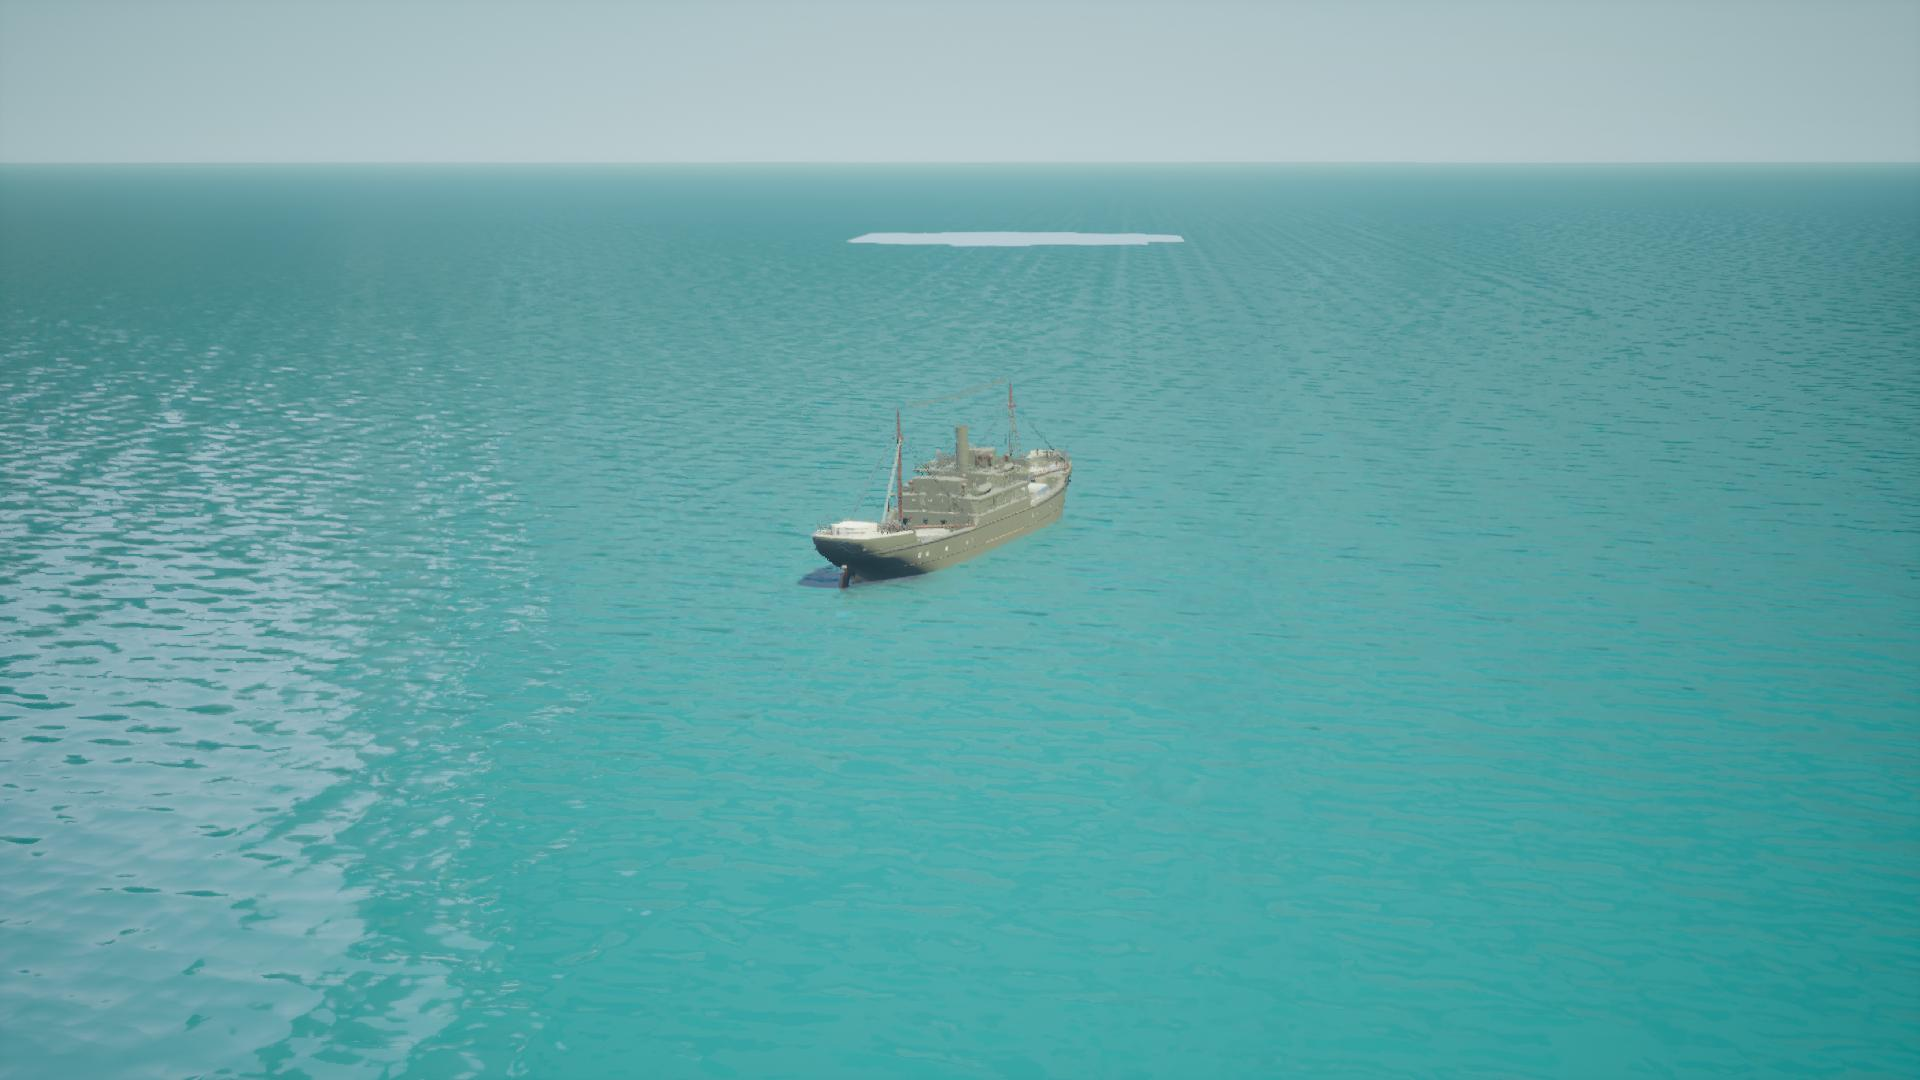Fishing Boat: (804, 381, 1069, 585)
